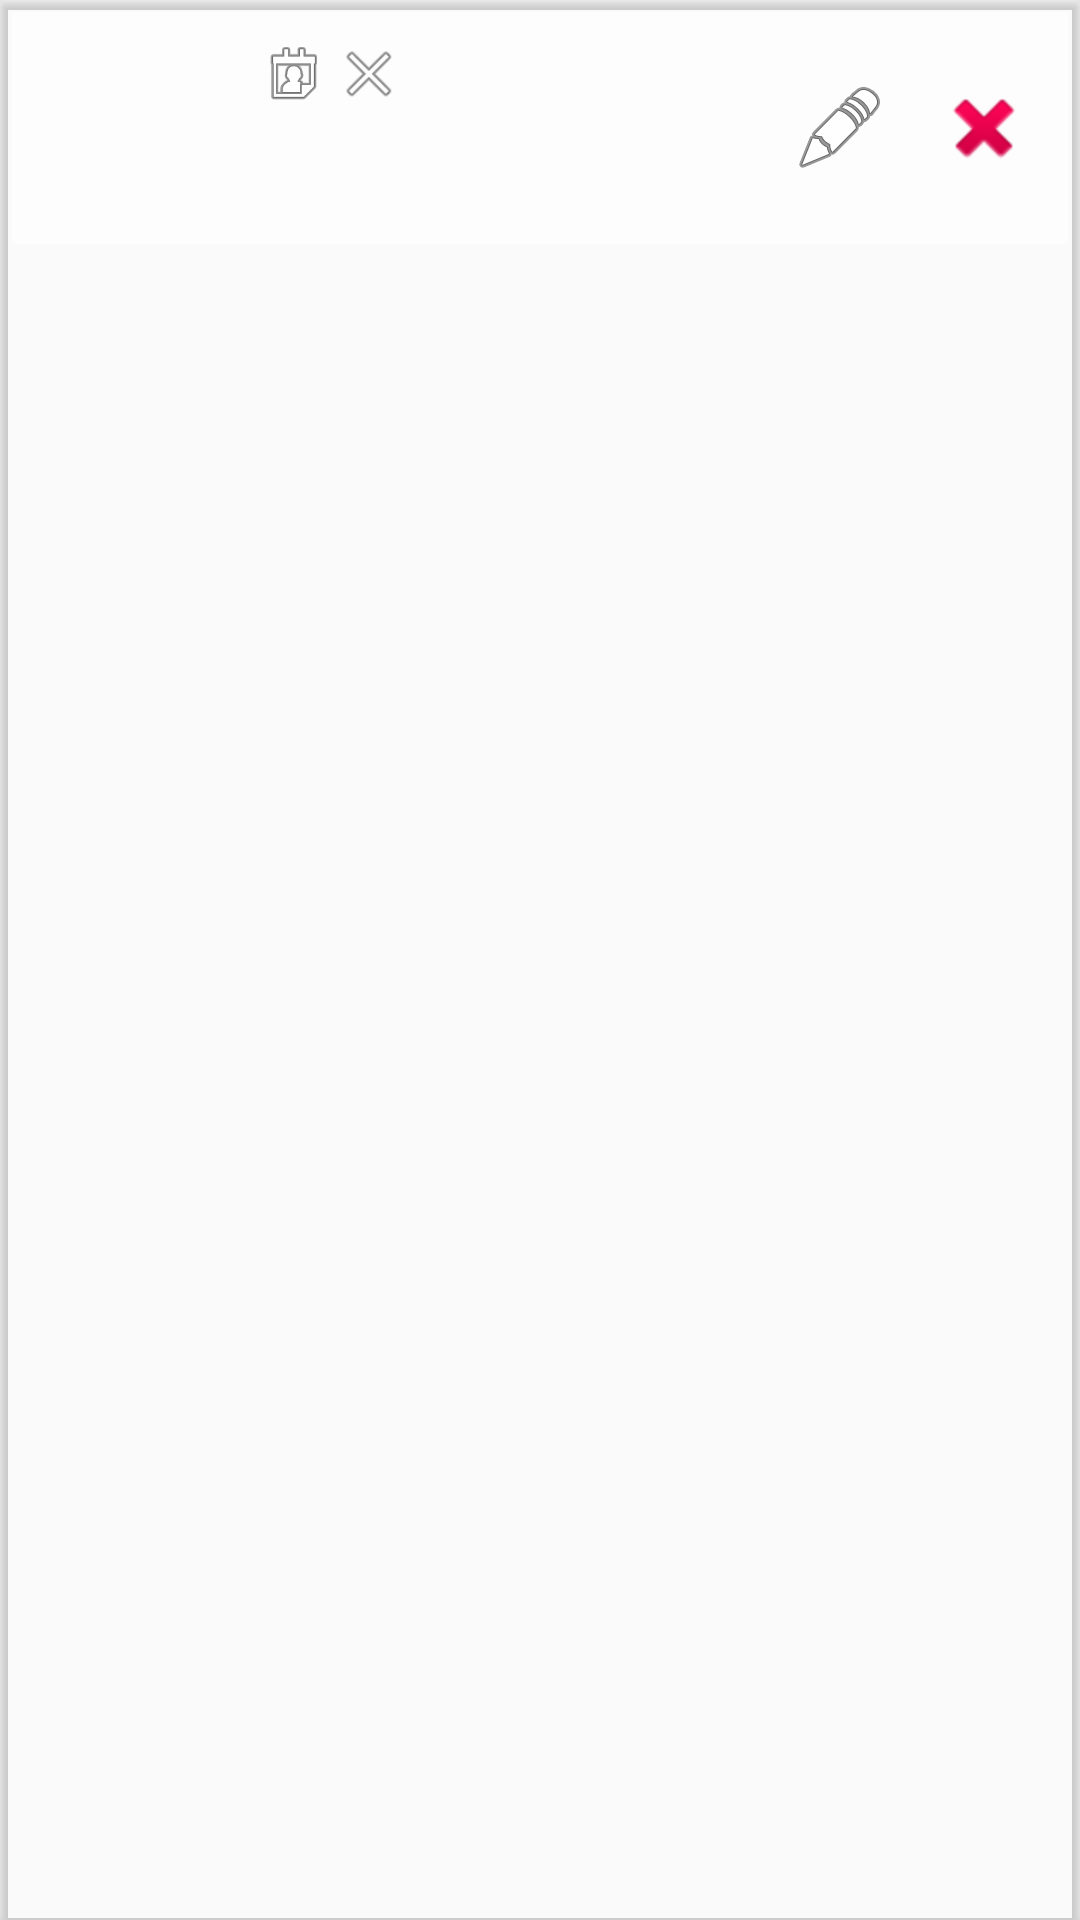

Icons on this 1080px x 1920px Android screen, each with its box as bbox=(x1, y1, x2, y2):
Upraviť: bbox=(799, 87, 880, 168)
Vymazať: bbox=(953, 99, 1015, 158)
